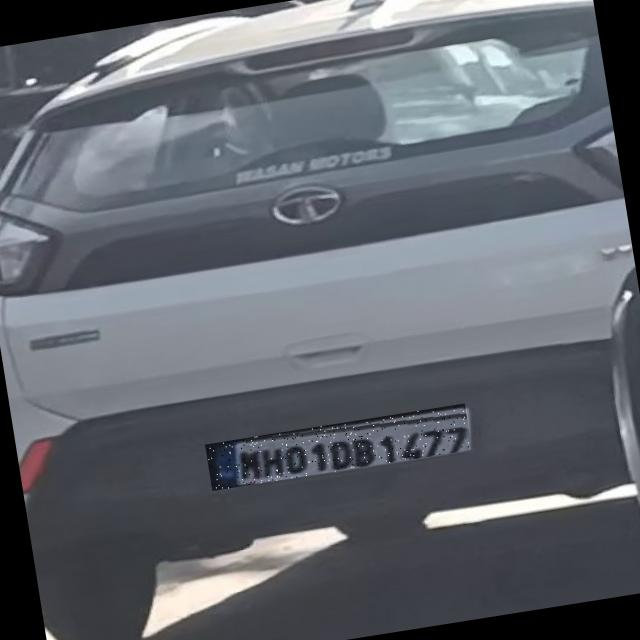Plate: (206, 404, 473, 492)
